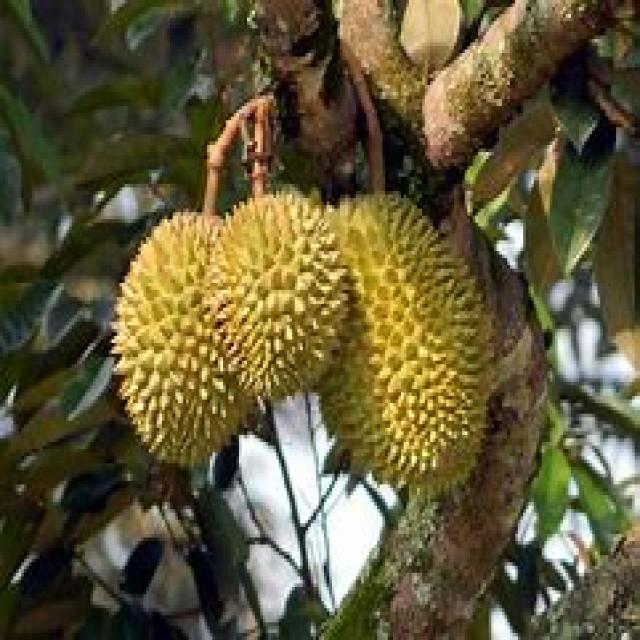mature: (112, 211, 252, 465), (212, 191, 349, 399)
